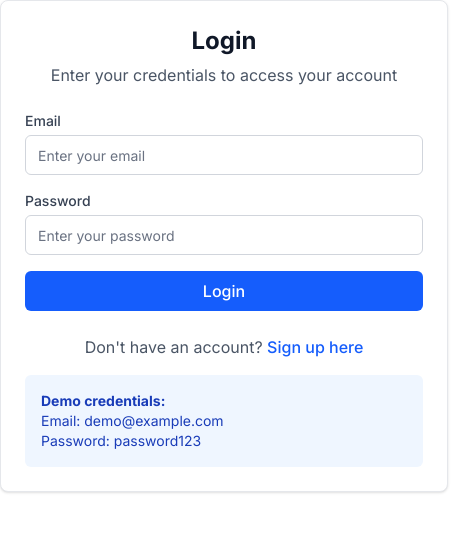
Scenario: LoginForm › shows validation error for short password
This screenshot has width=465, height=534.
Type "test@example.com" into the field labelled "Email" at [224, 155], box top-left (25, 135), bottom-right (423, 175)
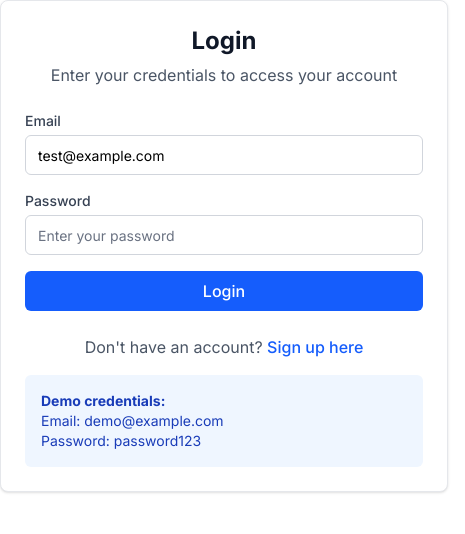
Type "123" into the password field labelled "Password" at [224, 235], box top-left (25, 215), bottom-right (423, 255)
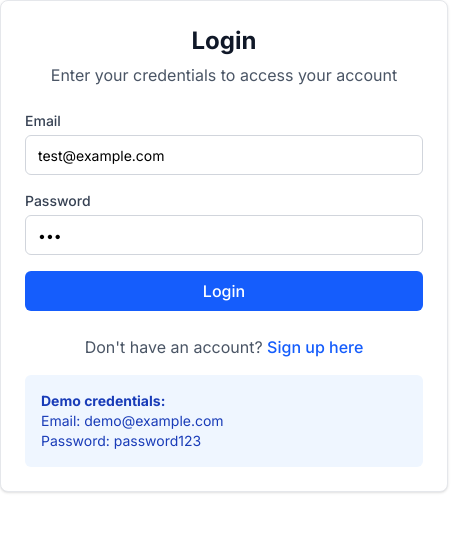
Click the button "Login" at [224, 291], box top-left (25, 271), bottom-right (423, 311)
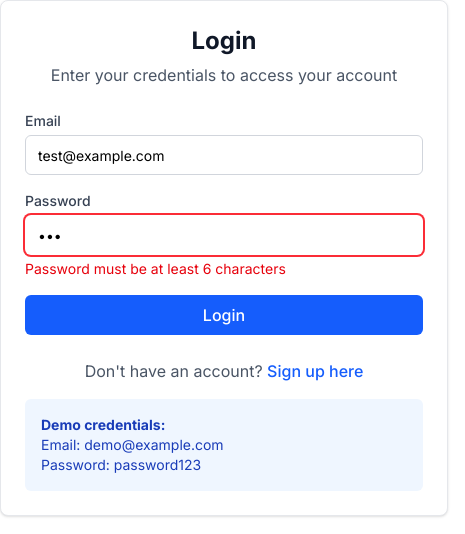
Result: the text "Password must be at least 6 characters" is shown at top-left (25, 260), bottom-right (286, 277)
